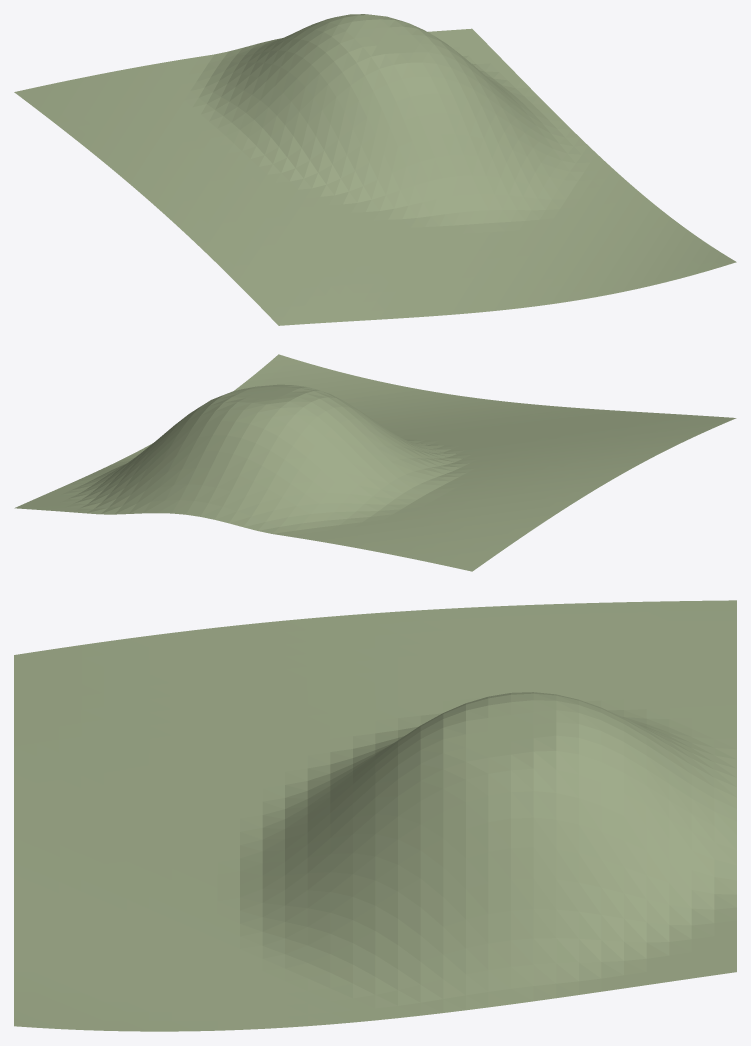
Rendered from expanse-13-18.glb.
The picture shows the model from 3 angles, top to bottom: view 1: azimuth 30°, elevation 25°; view 2: azimuth 150°, elevation 25°; view 3: azimuth 270°, elevation 25°; orthographic projection. The views are drawn at different scales.
Visible parts, largest first — view 1: expanse-13-18; view 2: expanse-13-18; view 3: expanse-13-18.
Boxes of the visible parts, x1=… form: expanse-13-18: x1=14, y1=14, x2=736, y2=325; expanse-13-18: x1=14, y1=354, x2=736, y2=571; expanse-13-18: x1=14, y1=600, x2=736, y2=1031.
Bounding box in the file's own units: 256 × 77.23 × 256.
